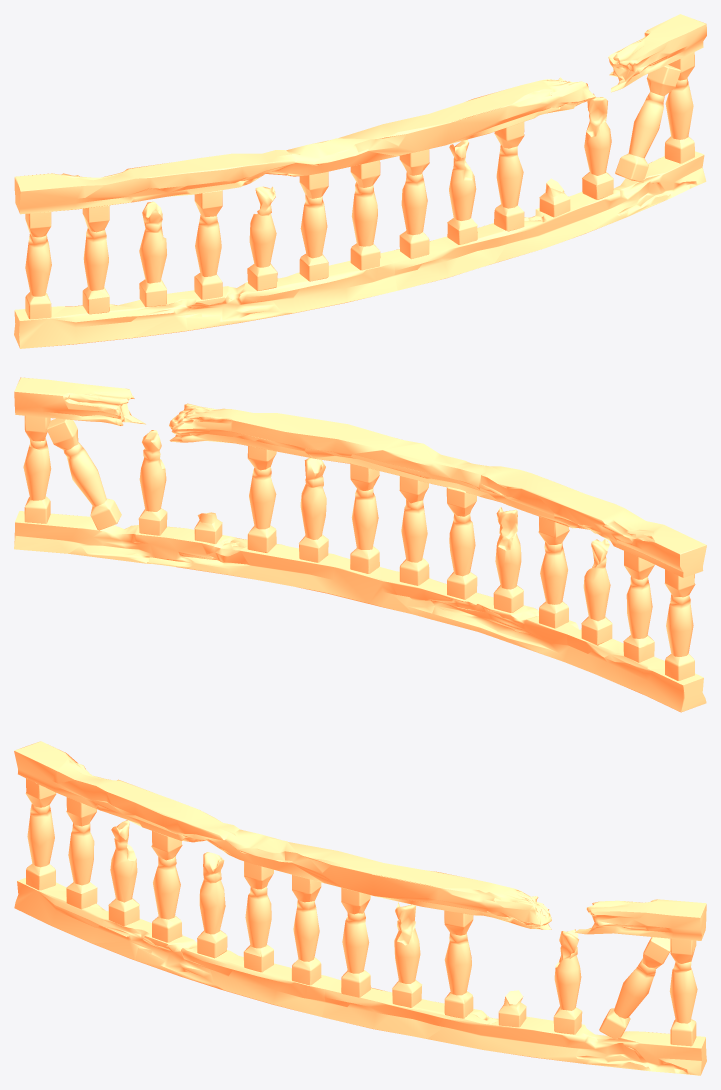
The model's file is SM_PIllars_Forecastle.fbx.
3 views of the same model, one above another, from view 1: azimuth 30°, elevation 25°; view 2: azimuth 150°, elevation 25°; view 3: azimuth 330°, elevation 25° (orthographic).
Visible parts, largest first — view 1: SM_PIllars_Forecastle_LOD0; view 2: SM_PIllars_Forecastle_LOD0; view 3: SM_PIllars_Forecastle_LOD0.
Part boxes in pixels (x1=…): SM_PIllars_Forecastle_LOD0: x1=14, y1=14, x2=706, y2=348; SM_PIllars_Forecastle_LOD0: x1=14, y1=377, x2=706, y2=712; SM_PIllars_Forecastle_LOD0: x1=14, y1=741, x2=706, y2=1075.
Bounding box in the file's own units: 695 × 91.63 × 155.
